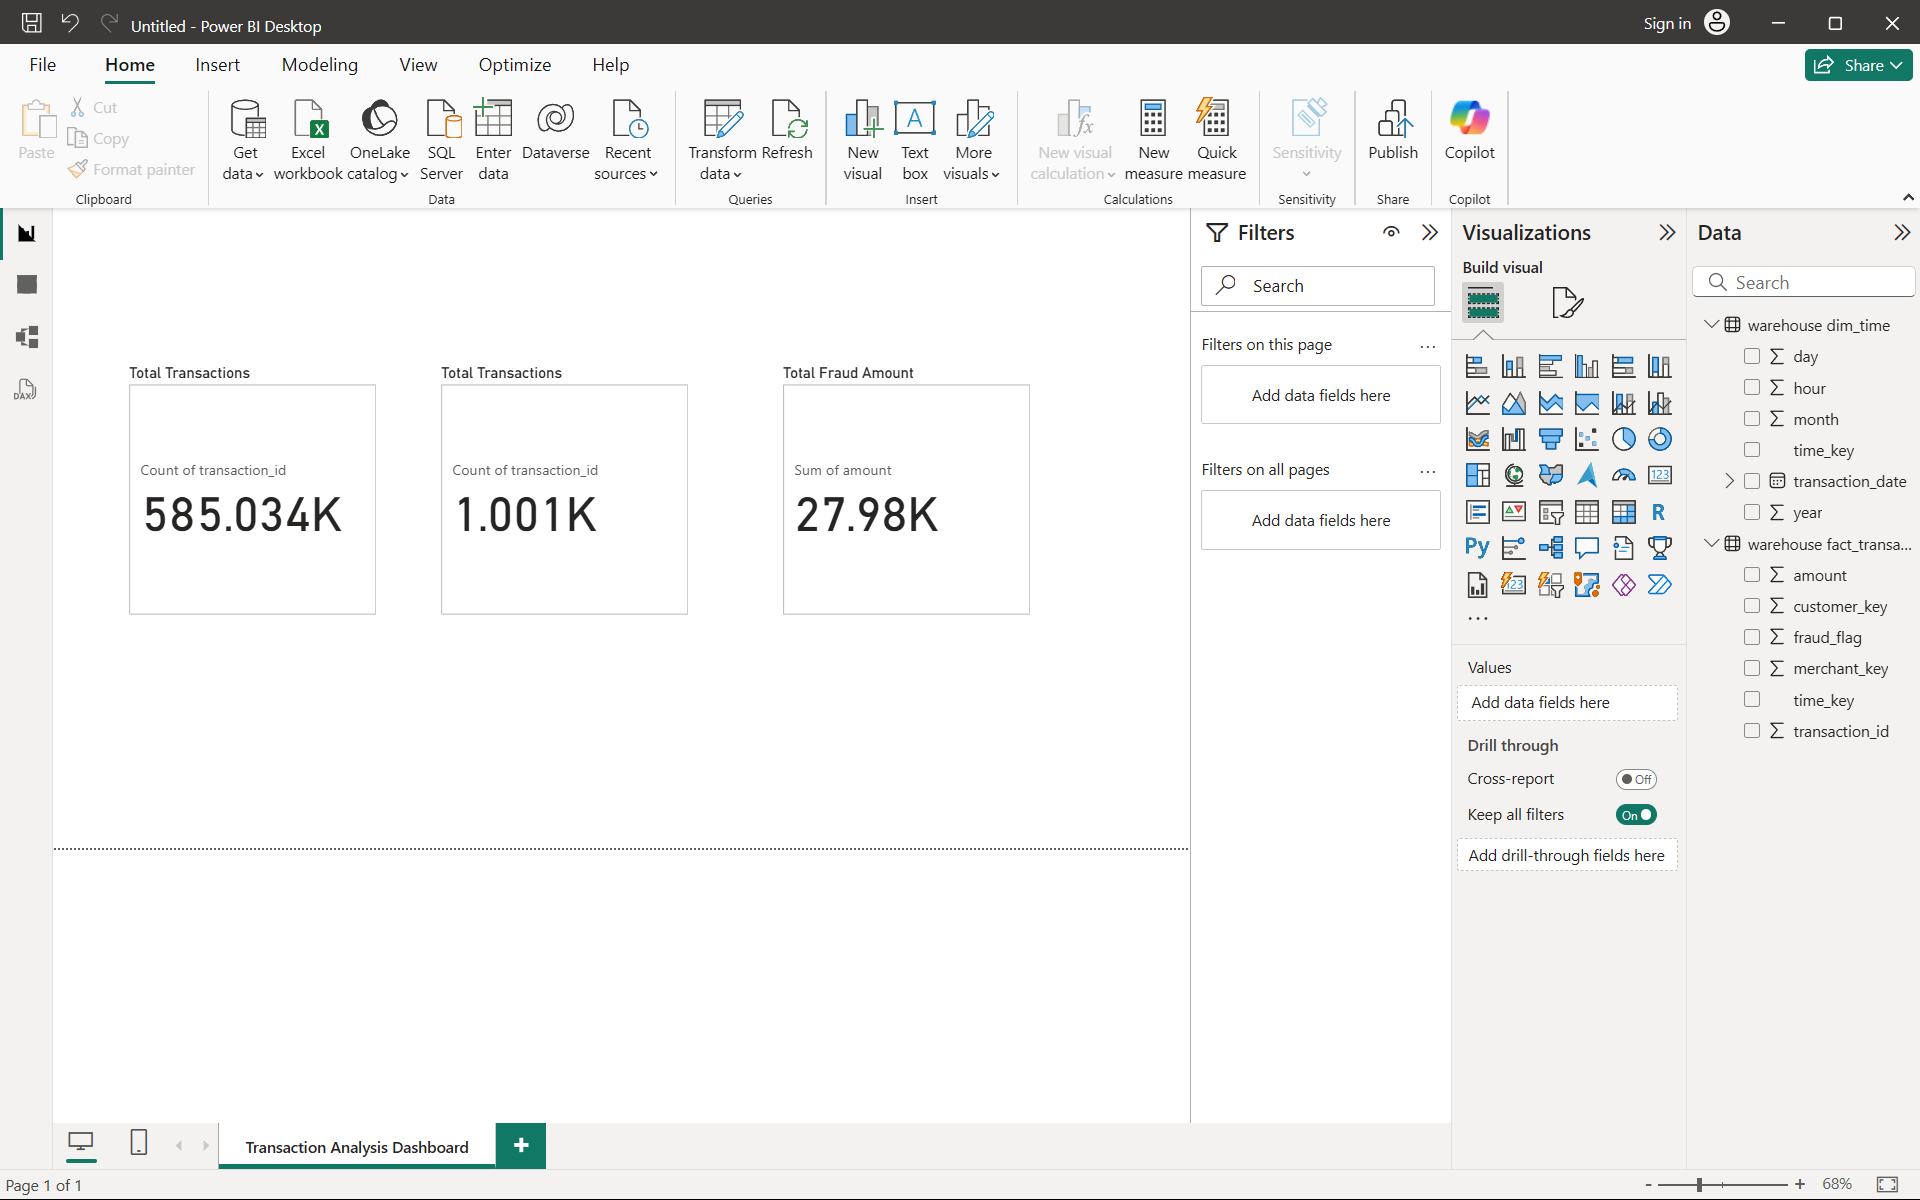

Layout of this report page (visuals, bound fields, positions):
{"tool":"powerbi","page":{"name":"Transaction Analysis Dashboard","canvas":[1280,720],"ordinal":0},"visuals":[{"type":"cardVisual","title":" Total Transactions","fields":{"Data":["CountNonNull(warehouse fact_transactions.transaction_id)"]},"box":[80,176,288,288],"z":0},{"type":"cardVisual","title":"Fraud Transactions","fields":{"Data":["CountNonNull(warehouse fact_transactions.transaction_id)"]},"box":[432,176,288,288],"z":1},{"type":"cardVisual","title":"Total Fraud Amount","fields":{"Data":["Sum(warehouse fact_transactions.amount)"]},"box":[816,176,288,288],"z":2}]}

Visuals, with their boxes on the page's 1280x720 design canvas (x1, y1, x2, y2). These are canvas units, not pixel positions in the 1920x1200 screenshot, which may show the page scaled, cropped or inside an application window:
" Total Transactions" cardVisual: l=80, t=176, r=368, b=464
"Fraud Transactions" cardVisual: l=432, t=176, r=720, b=464
"Total Fraud Amount" cardVisual: l=816, t=176, r=1104, b=464
